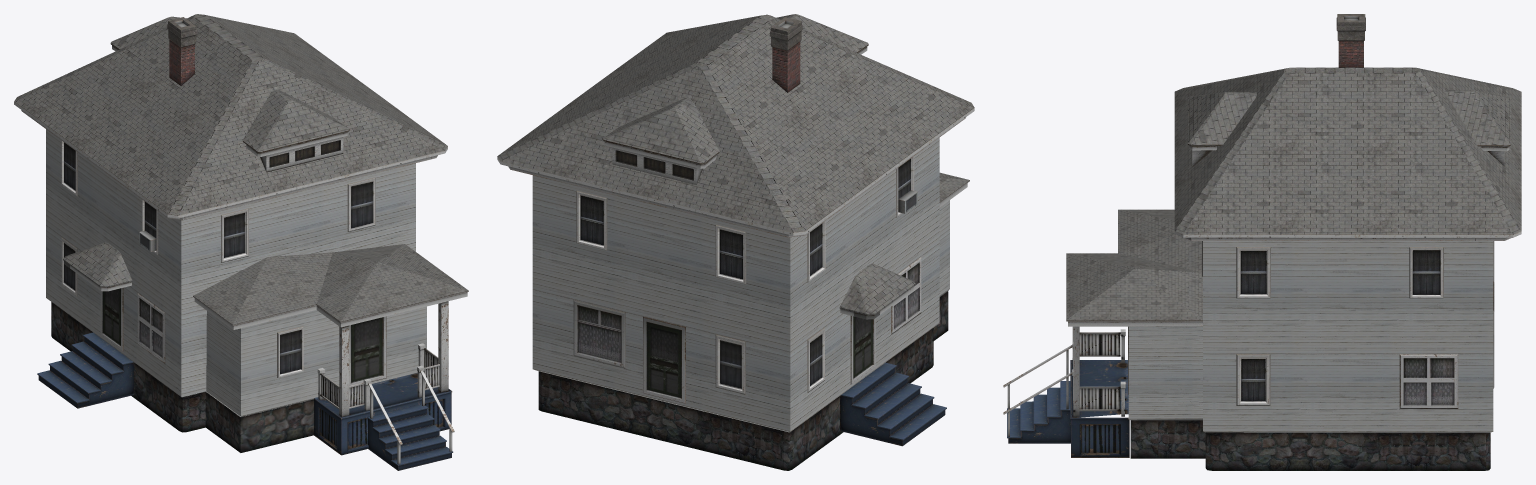
The model's file is house.gltf.gltf.
3 views of the same model, side by side, from view 1: azimuth 30°, elevation 25°; view 2: azimuth 150°, elevation 25°; view 3: azimuth 270°, elevation 25° (orthographic). The views are drawn at different scales.
Size of the model in its own units: 1.87 by 1.96 by 2.5.
3 materials, 3 textured.
